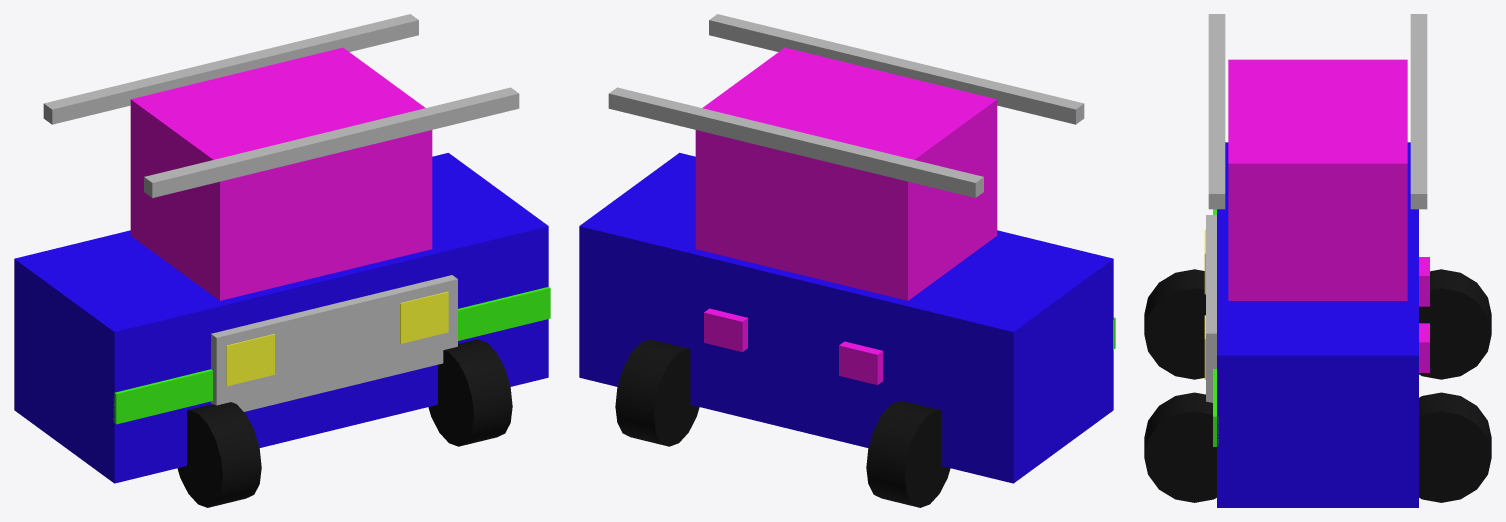
The model's file is vehicles.glb.
The picture shows the model from 3 angles, left to right: view 1: azimuth 30°, elevation 25°; view 2: azimuth 150°, elevation 25°; view 3: azimuth 270°, elevation 25°; orthographic projection.
Bounding box in the file's own units: 4.5 × 3.22 × 3.1.
